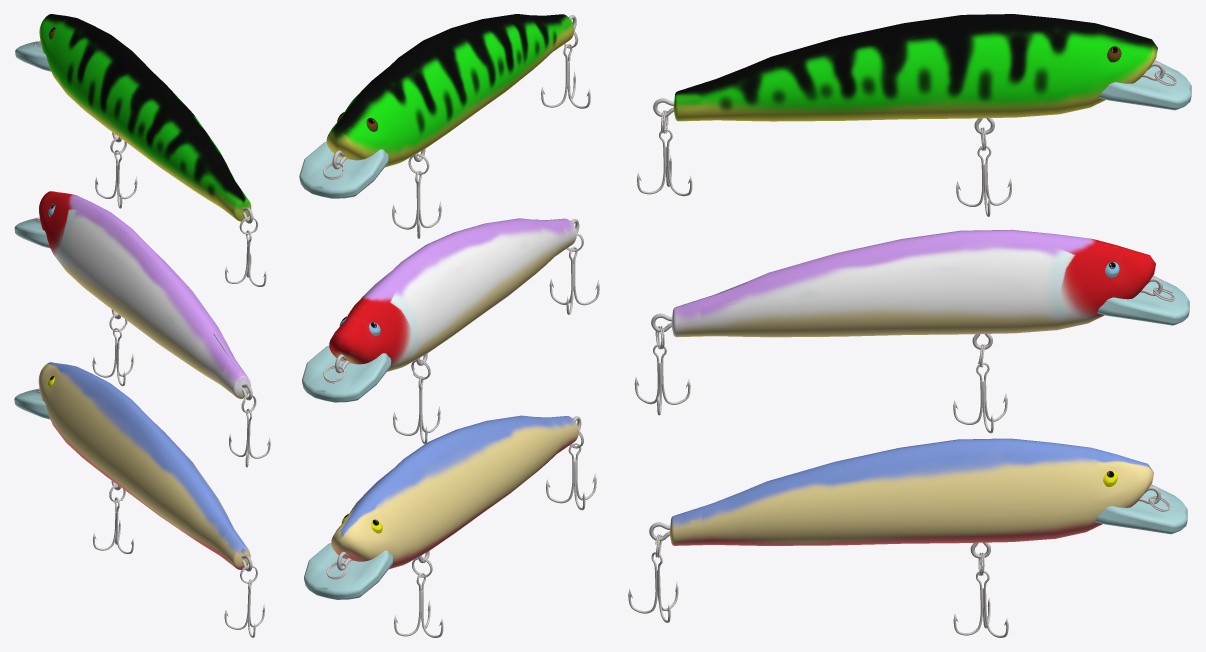
Rendered from wobbler.fbx.
The picture shows the model from 3 angles, left to right: view 1: azimuth 30°, elevation 25°; view 2: azimuth 150°, elevation 25°; view 3: azimuth 270°, elevation 25°; orthographic projection. The views are drawn at different scales.
Visible parts, largest first — view 1: r1; view 2: r1; view 3: r1.
Boxes of the visible parts, x1,y1,x2,y2 form: r1: (14, 14, 270, 637); r1: (299, 14, 599, 637); r1: (628, 14, 1191, 637).
Size of the model in its own units: 41.45 by 326 by 268.
